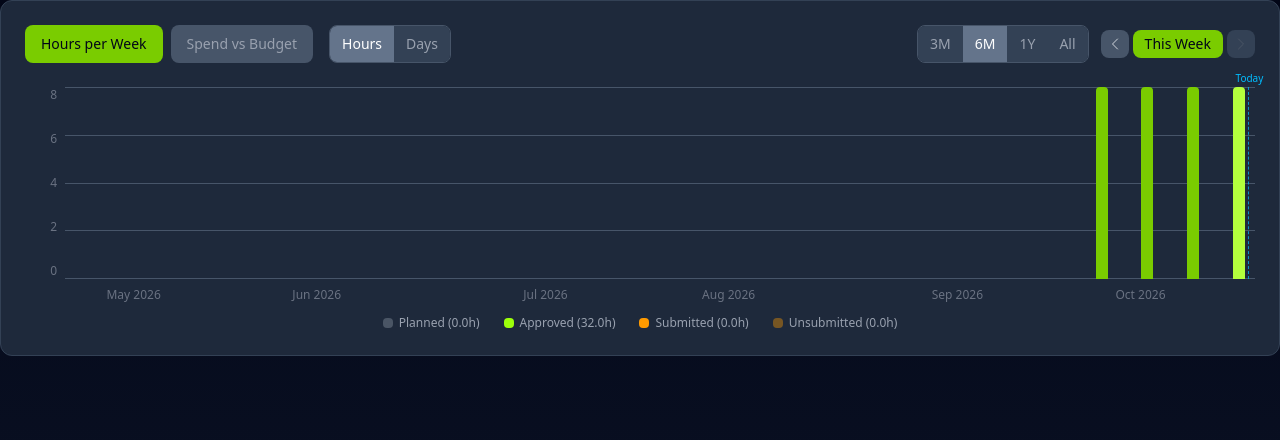
it: Chart time range › drops the tooltip, rather than crashing, when the hovered week leaves the window
Click the button "Spend vs Budget".
click(242, 44)  # box [171, 25, 313, 63]
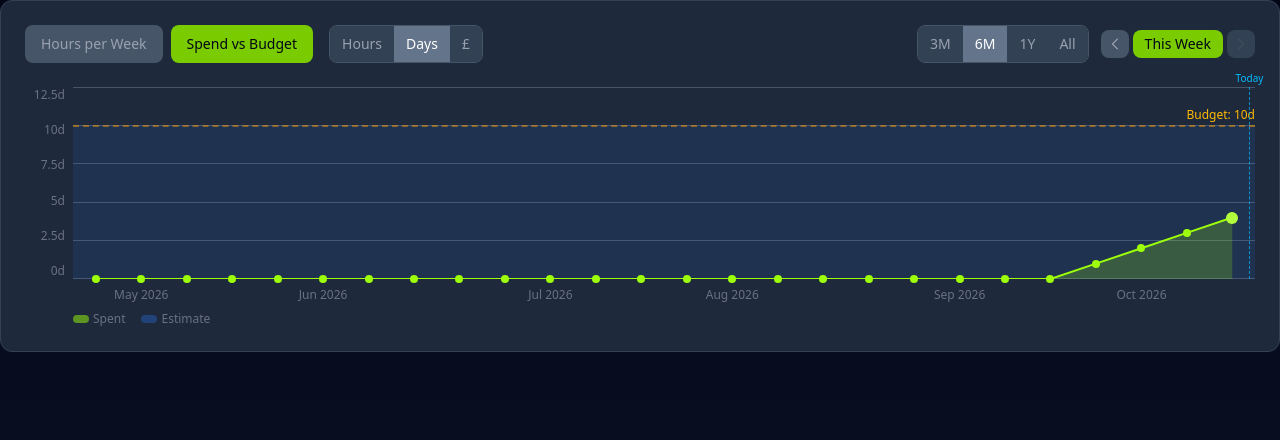
Click the button named "1 year".
click(1027, 44)  # box [1008, 26, 1047, 62]
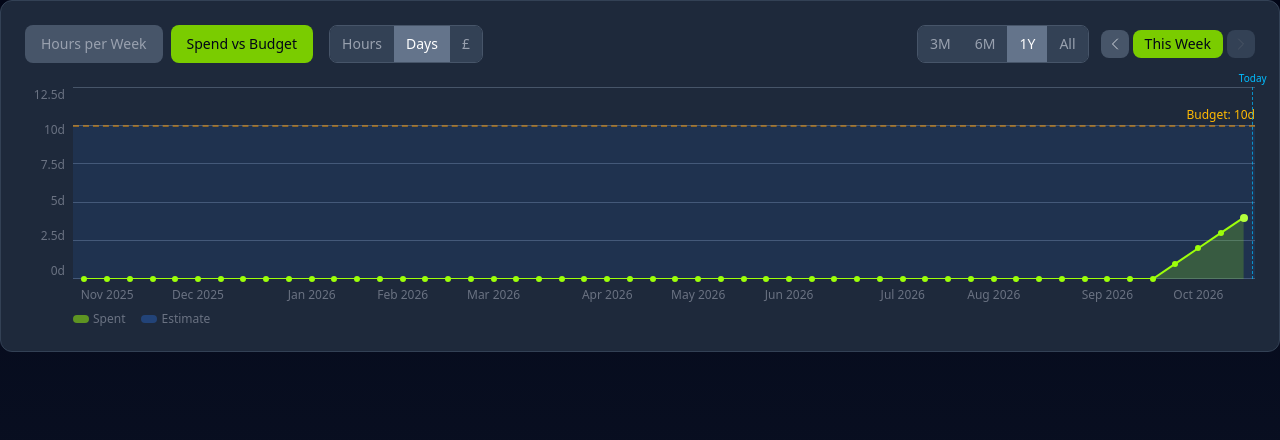
Expected: the number of elements with class "cursor-pointer" is 52
Hover over the 1st element with class "cursor-pointer".
mouse_move(84, 183)  # box [73, 87, 96, 279]
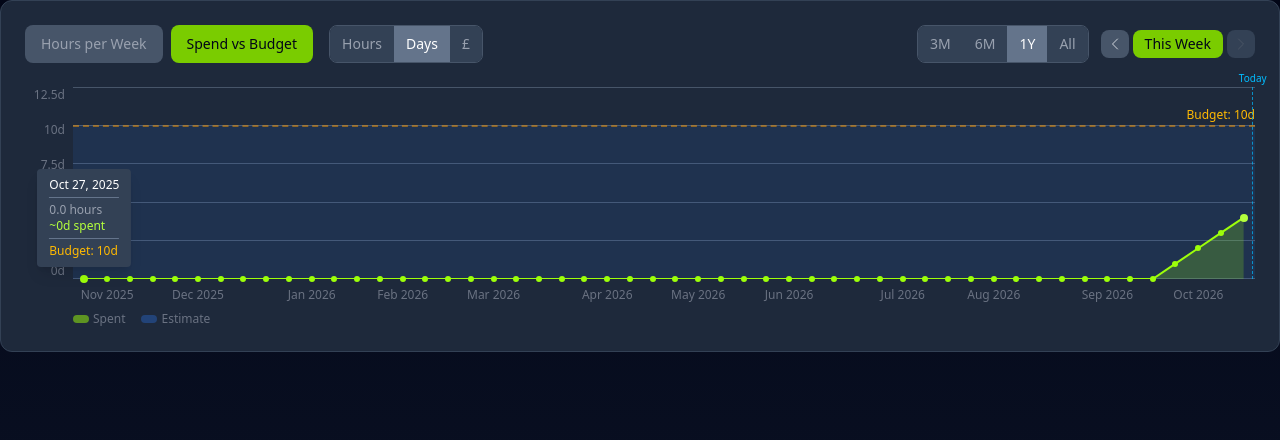
Expected: the text "0.0 hours" is shown once, [49, 201, 102, 218]
Click the button named "3 months".
click(940, 44)  # box [918, 26, 963, 62]
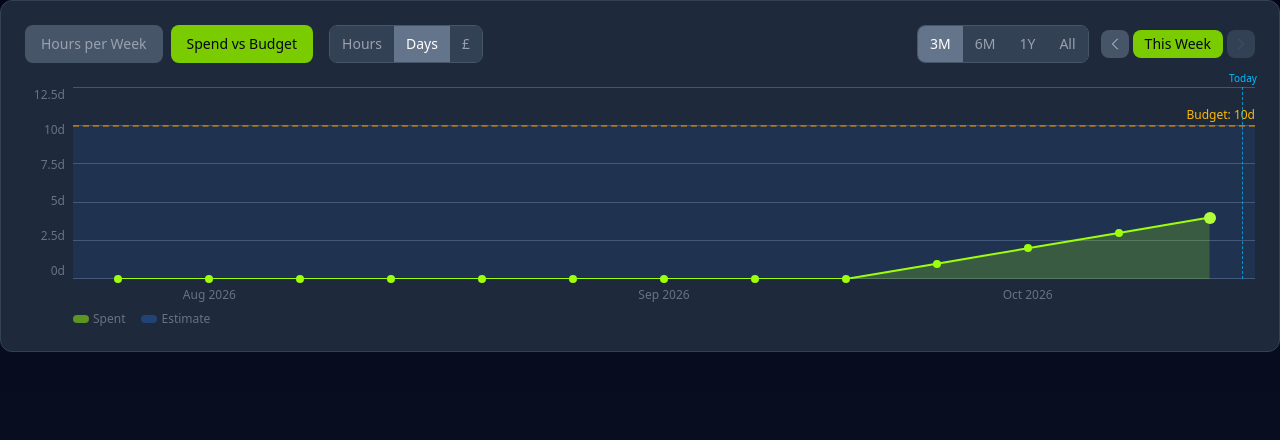
Expected: the text "0.0 hours" is gone
